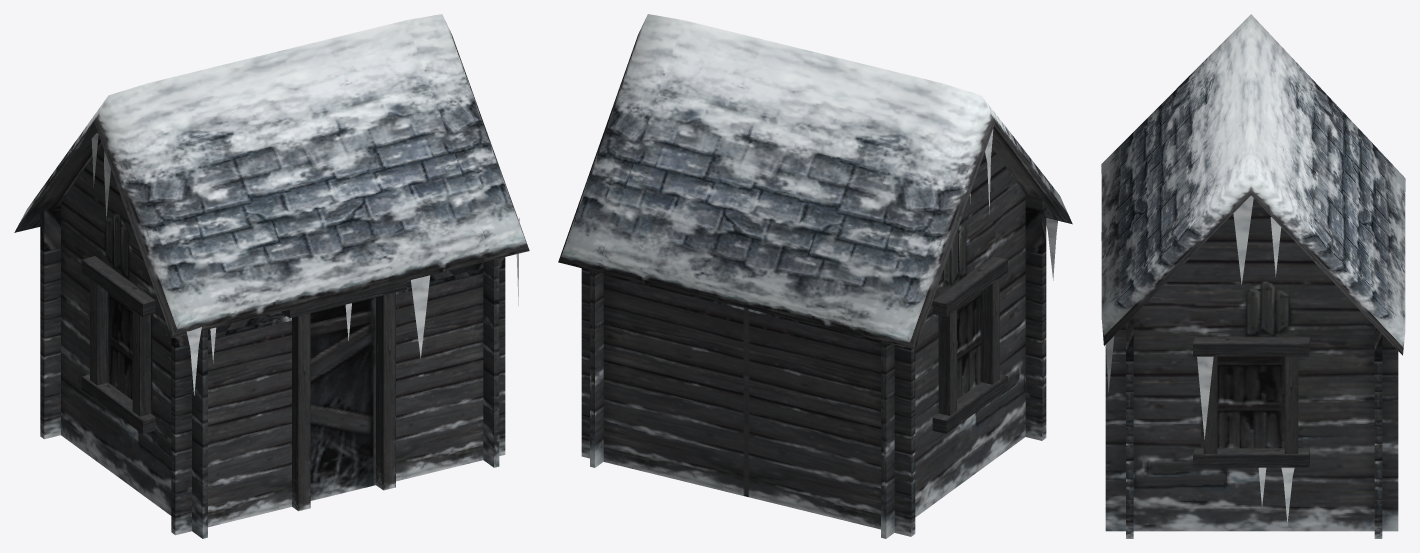
File: Snow_House01.FBX
3 renders of one model, left to right at view 1: azimuth 30°, elevation 25°; view 2: azimuth 150°, elevation 25°; view 3: azimuth 270°, elevation 25°, orthographic. The views are drawn at different scales.
Visible parts, largest first — view 1: Snow_House01; view 2: Snow_House01; view 3: Snow_House01.
Part boxes in pixels (x1,y1,x2,y2): Snow_House01: (14, 14, 529, 538); Snow_House01: (558, 14, 1072, 538); Snow_House01: (1101, 14, 1405, 538).
Bounding box in the file's own units: 2112 × 2224 × 1639.
